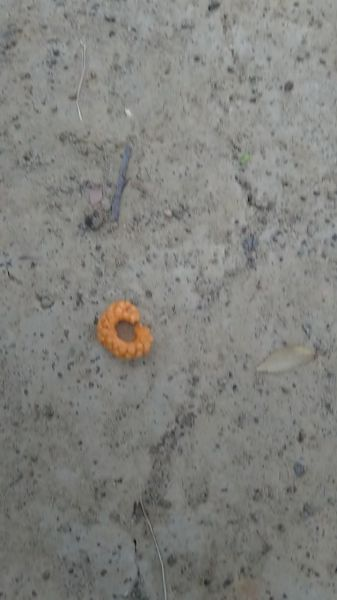eggs: (93, 291, 161, 363)
